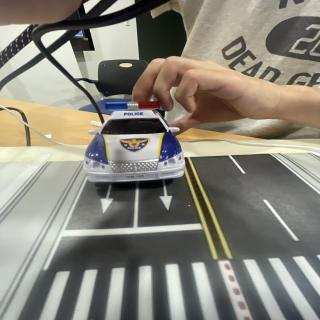Police_car: (83, 101, 185, 182)
